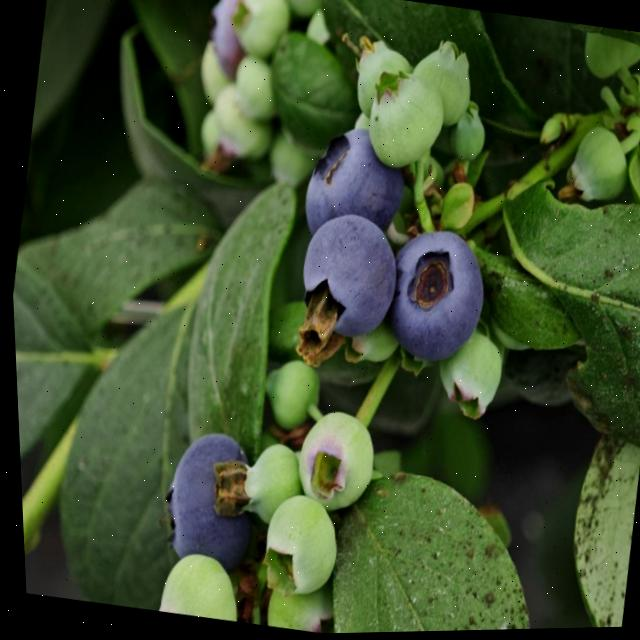RipeBlueBerry: (375, 222, 494, 375), (286, 205, 404, 351), (150, 427, 265, 574), (293, 120, 414, 247)
UnripeBlueBerry: (283, 404, 380, 518), (248, 488, 342, 605), (356, 69, 450, 177), (423, 331, 505, 427), (223, 439, 302, 530), (558, 125, 634, 212), (249, 354, 321, 435)
